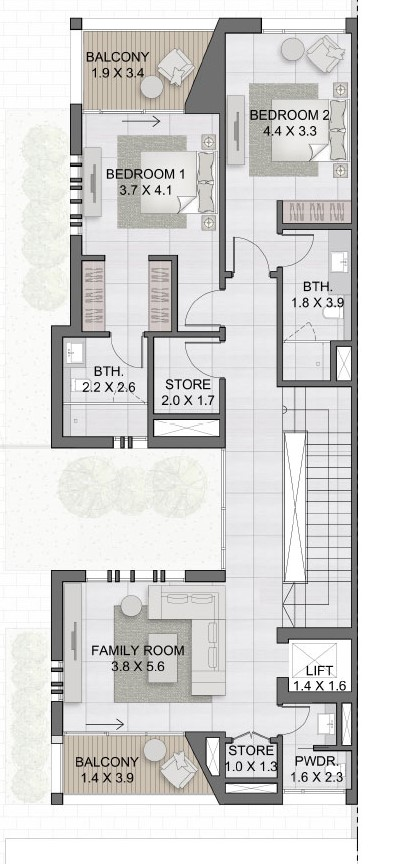wall: (349, 18, 359, 805), (215, 24, 230, 285), (49, 328, 67, 446), (69, 232, 84, 332), (49, 570, 65, 660), (277, 626, 352, 642), (48, 434, 113, 450), (169, 254, 182, 334), (274, 735, 288, 807), (280, 692, 359, 704), (222, 791, 285, 805), (280, 221, 355, 232), (148, 437, 223, 447), (218, 729, 228, 804), (69, 101, 82, 154), (147, 333, 153, 447), (147, 329, 221, 338), (53, 326, 107, 338), (280, 379, 352, 388), (49, 699, 65, 737), (219, 21, 264, 34), (314, 743, 360, 754), (184, 570, 226, 582), (224, 775, 285, 783), (276, 268, 280, 385), (53, 571, 92, 583), (276, 196, 289, 232), (328, 337, 339, 379), (68, 251, 107, 262), (336, 699, 343, 750), (330, 337, 351, 350), (151, 254, 180, 263), (280, 678, 288, 703)
